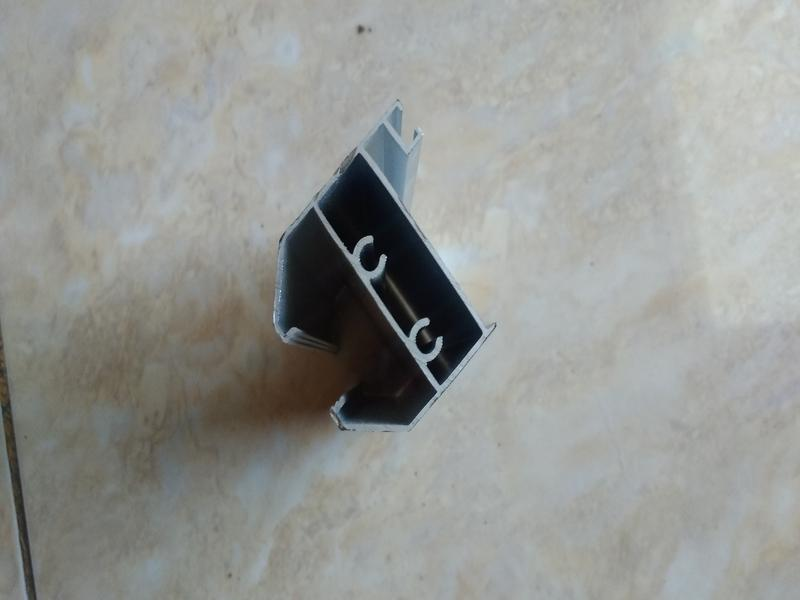Aluminium_3: (241, 85, 531, 437)
